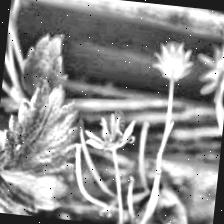Gray Mold: (82, 107, 140, 157)
